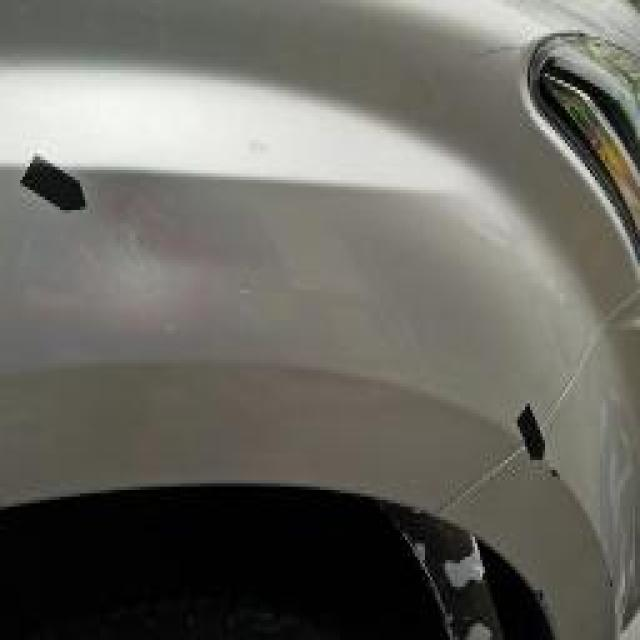Fender: (18, 130, 282, 363)
